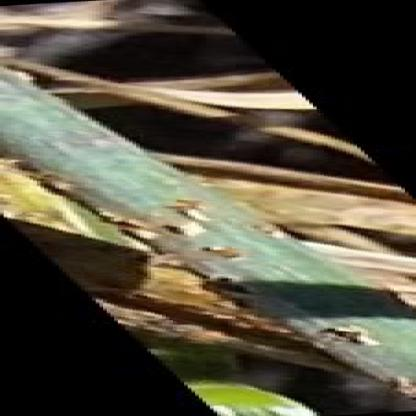wheat Stem Rust: (112, 206, 268, 238), (283, 320, 396, 345), (158, 248, 252, 268)
